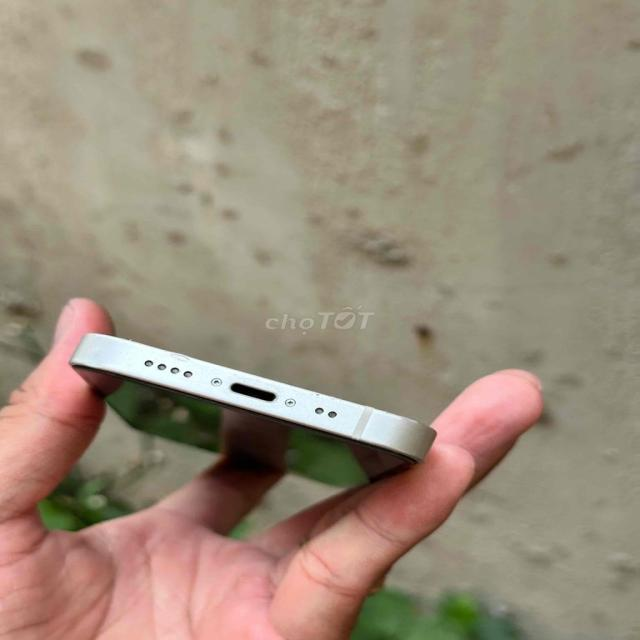gen_12_13: (62, 311, 440, 518)
